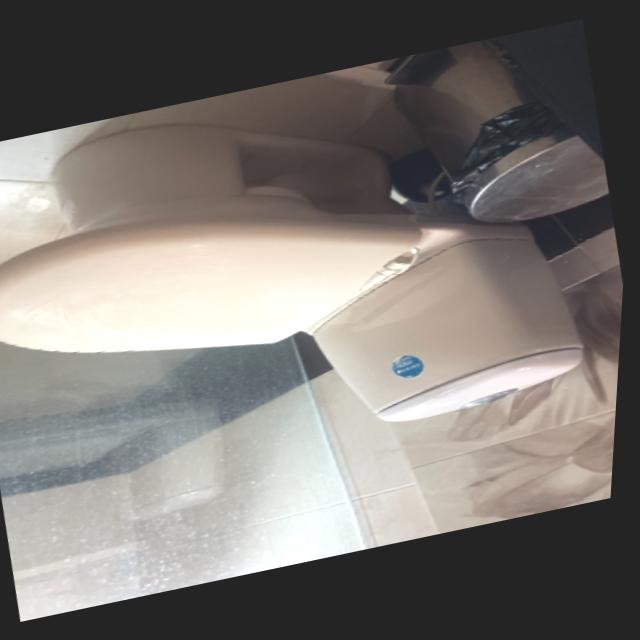toilet: (0, 45, 610, 508)
